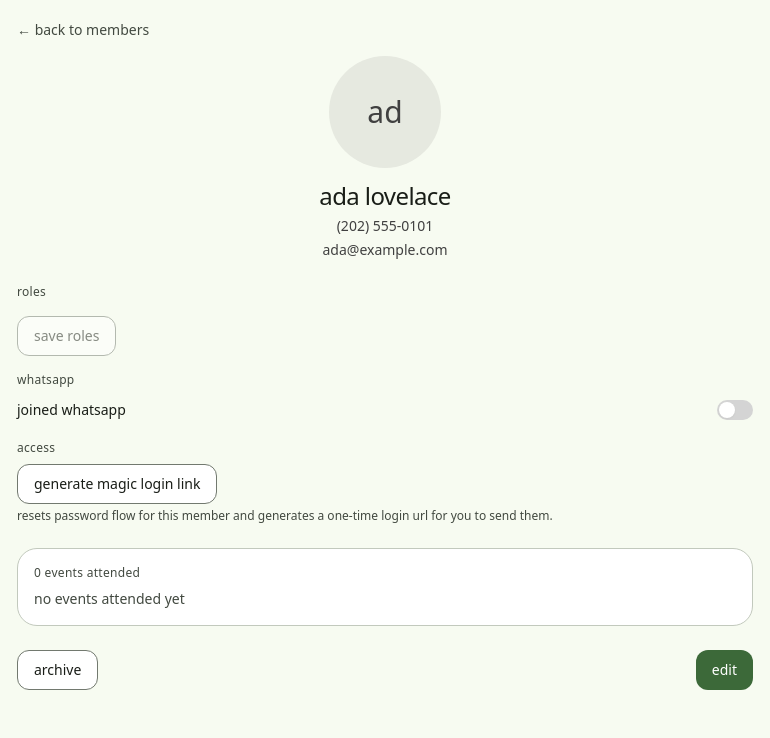
it: MemberDetailScreen edit form › shows separate first/last name fields prefilled from the member
This screenshot has width=770, height=738.
Click the button "edit" at (724, 670), box [696, 650, 753, 690]
(page scrolled)
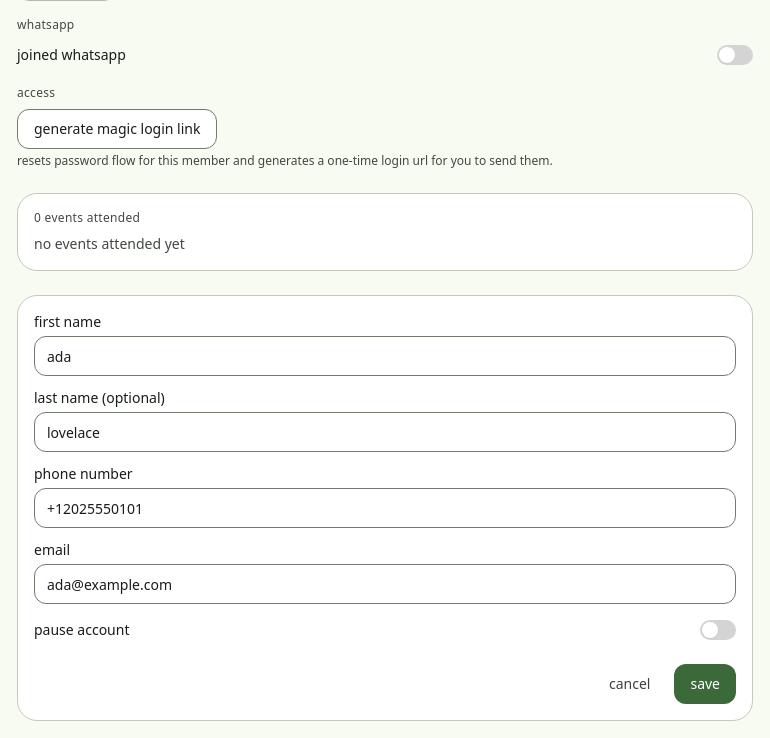
Expected: the field labelled "first name" holds "ada", [34, 336, 736, 376]
Expected: the field labelled "last name (optional)" holds "lovelace", [34, 412, 736, 452]
